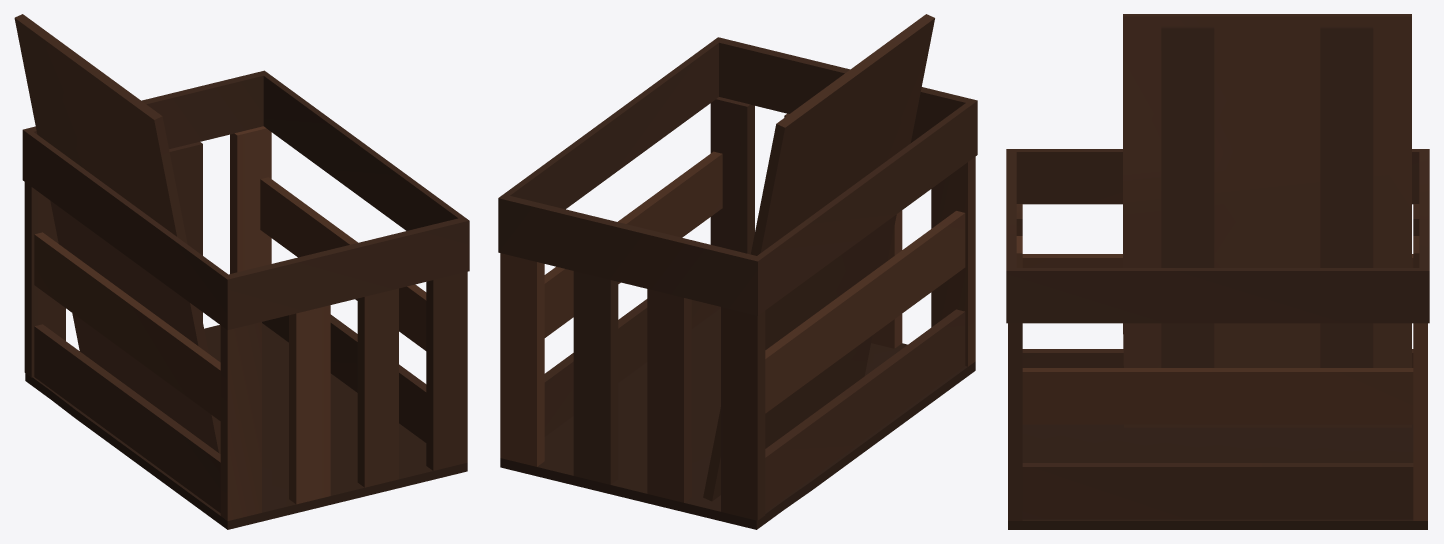
Rendered from Small Dark Crate Leaned Lid.fbx.
3 views of the same model, side by side, from view 1: azimuth 30°, elevation 25°; view 2: azimuth 150°, elevation 25°; view 3: azimuth 270°, elevation 25° (orthographic). The views are drawn at different scales.
Parts seen in each view (by area): view 1: Small Dark Crate Leaned Lid; view 2: Small Dark Crate Leaned Lid; view 3: Small Dark Crate Leaned Lid.
Boxes of the visible parts, left/top/right/bottom form: Small Dark Crate Leaned Lid: left=14, top=14, right=469, bottom=529; Small Dark Crate Leaned Lid: left=498, top=14, right=977, bottom=529; Small Dark Crate Leaned Lid: left=1006, top=14, right=1429, bottom=529.
Bounding box in the file's own units: 206 × 204 × 148.
Materials: 1 (1 with a texture image).
